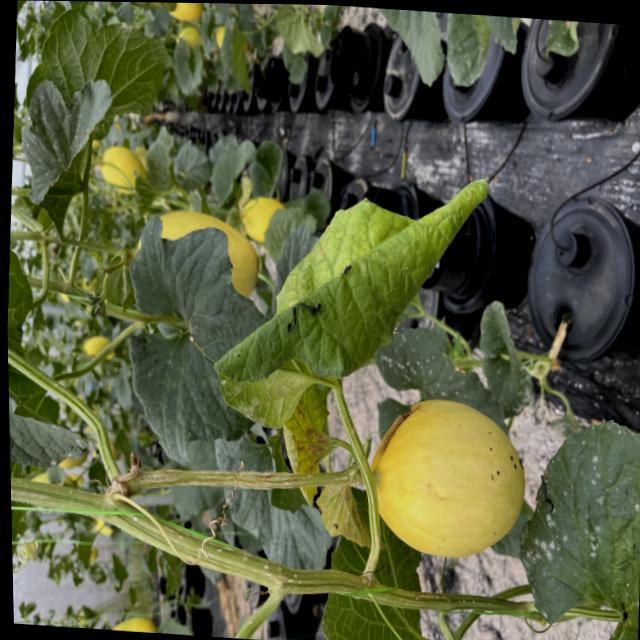alternaria leaf blight: (317, 485, 372, 558), (294, 424, 333, 473)
powdery mildew: (200, 148, 492, 445), (512, 408, 640, 640)
